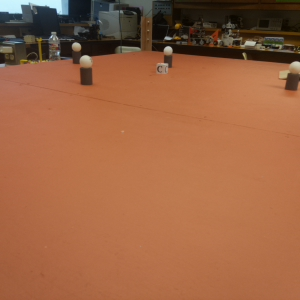blockC: (156, 63, 167, 74)
corner: (140, 17, 153, 50)
obstacle: (79, 55, 94, 83), (286, 62, 300, 91), (71, 43, 80, 64), (163, 46, 171, 66)
